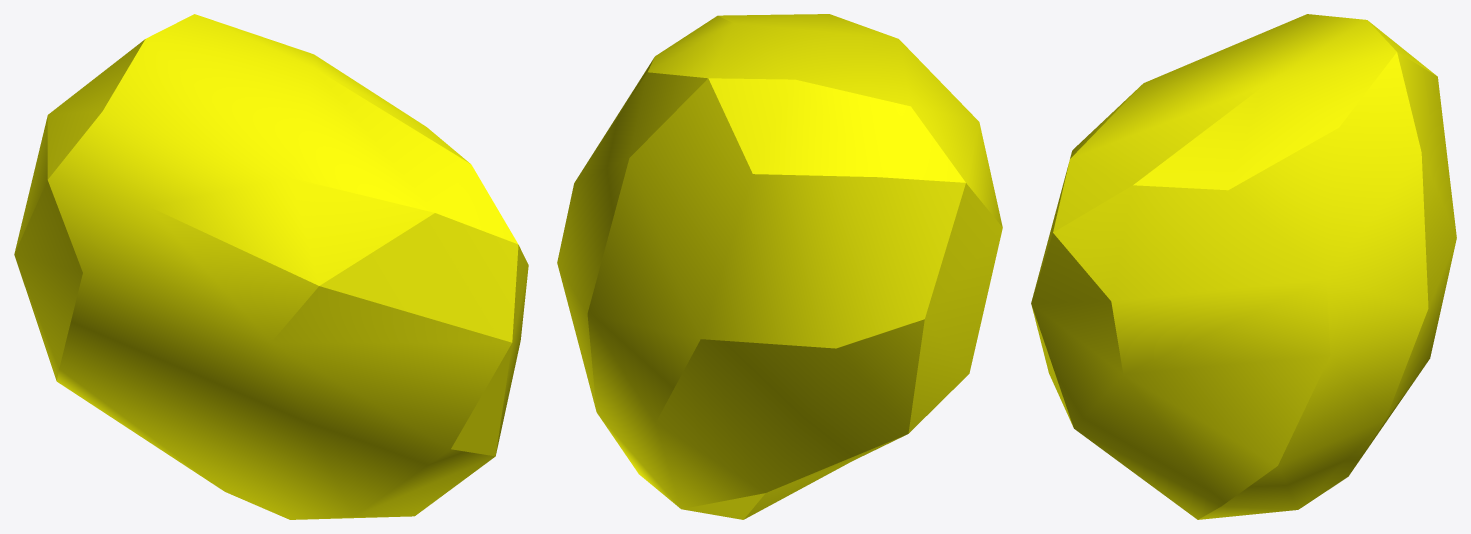
The model's file is kaykit-rock-3-c-color-1.glb.
3 views of the same model, side by side, from view 1: azimuth 30°, elevation 25°; view 2: azimuth 150°, elevation 25°; view 3: azimuth 270°, elevation 25° (orthographic). The views are drawn at different scales.
Visible parts, largest first — view 1: Rock_3_C_Color1; view 2: Rock_3_C_Color1; view 3: Rock_3_C_Color1.
Boxes of the visible parts, x1,y1,x2,y2 form: Rock_3_C_Color1: (14,14,528,519); Rock_3_C_Color1: (557,14,1002,519); Rock_3_C_Color1: (1031,14,1456,519).
Size of the model in its own units: 0.8051 by 0.9676 by 0.8596.
